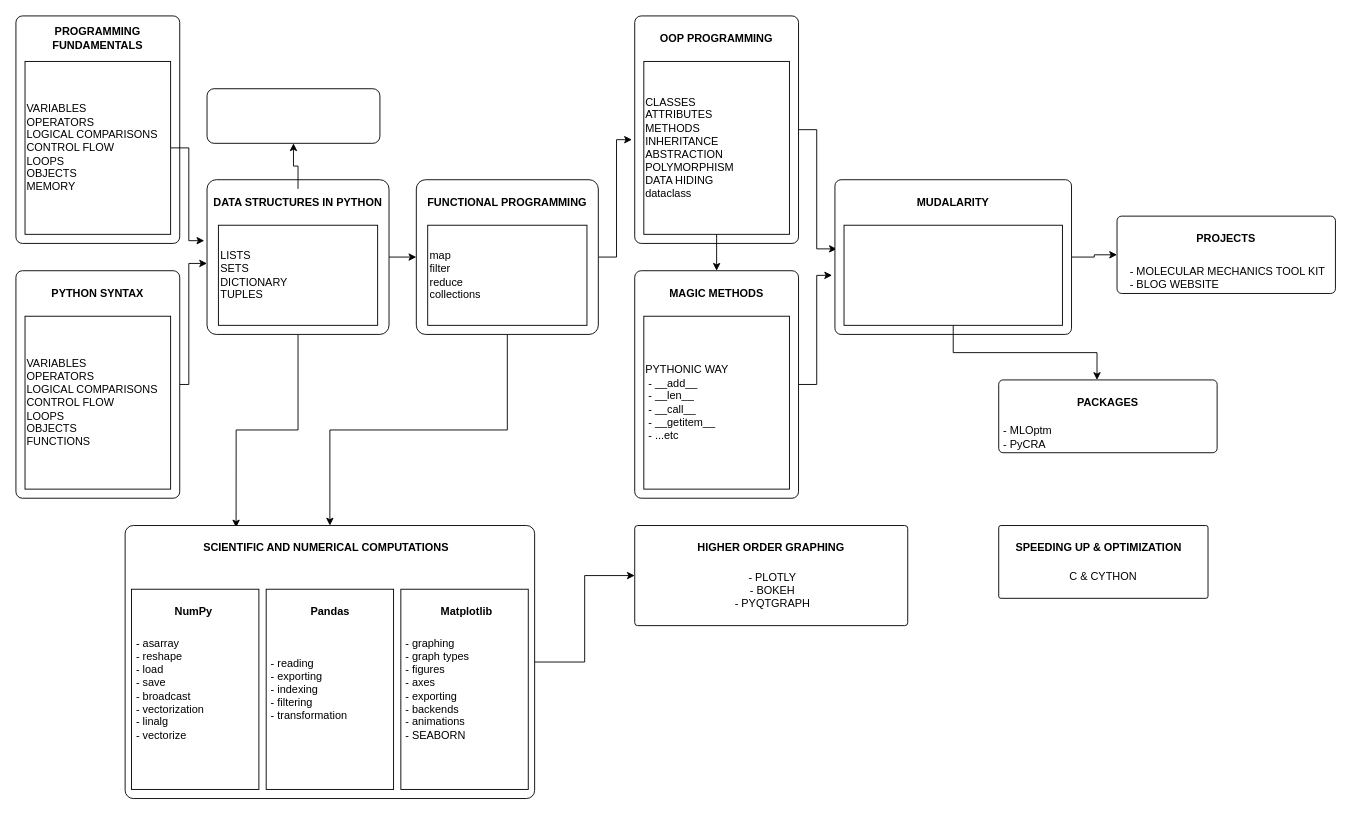
The diagram is 1351 pixels wide and 814 high, and some of its shapes have lost their labels. The centre of each missing label's shape, as x and y in pixels:
"CREATING MODULES STRUCT TING LARGE CODE BASE - __init__.py - __main__.py" goes at (952,274).
"MUTABLE AND IMMUTABLE" goes at (293,115).
